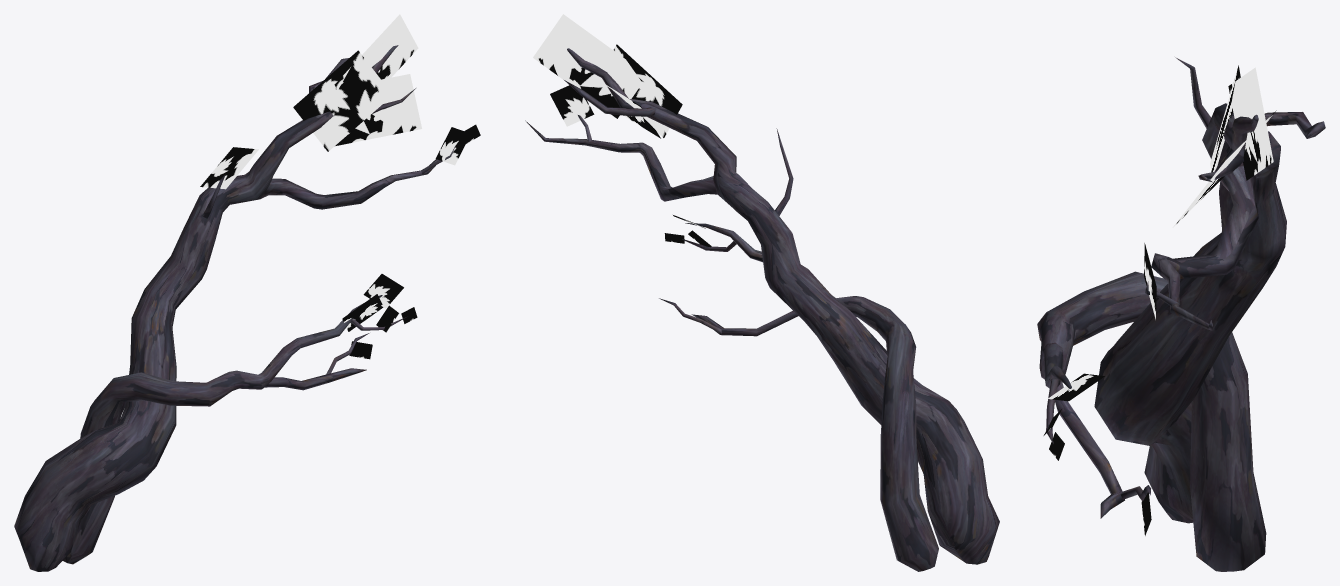
The model's file is P_TreeWindsweptSaplingB02.obj.
3 renders of one model, left to right at view 1: azimuth 30°, elevation 25°; view 2: azimuth 150°, elevation 25°; view 3: azimuth 270°, elevation 25°, orthographic. The views are drawn at different scales.
Size of the model in its own units: 7.61 by 7.18 by 2.47.
